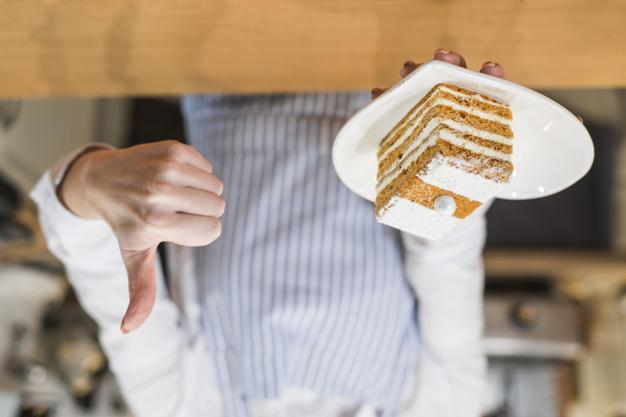thumbsdown: (120, 139, 226, 334)
